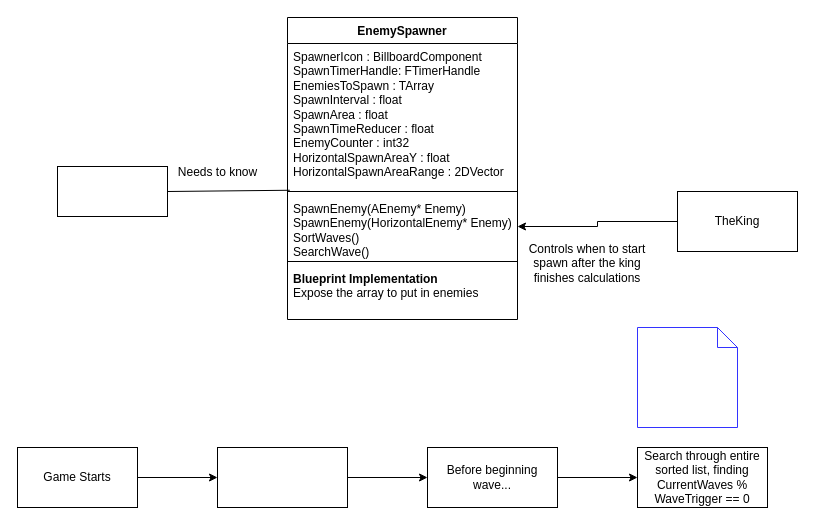
This 815x525 diagram has some shape labels left out. Here are the shapes that lost their labels. From the top down, the centre of each, then its label:
At (112,191): "Enemy".
At (687,377): "Feel like there is optimization potential here...".
At (282,477): "Sort Waves by priority".
